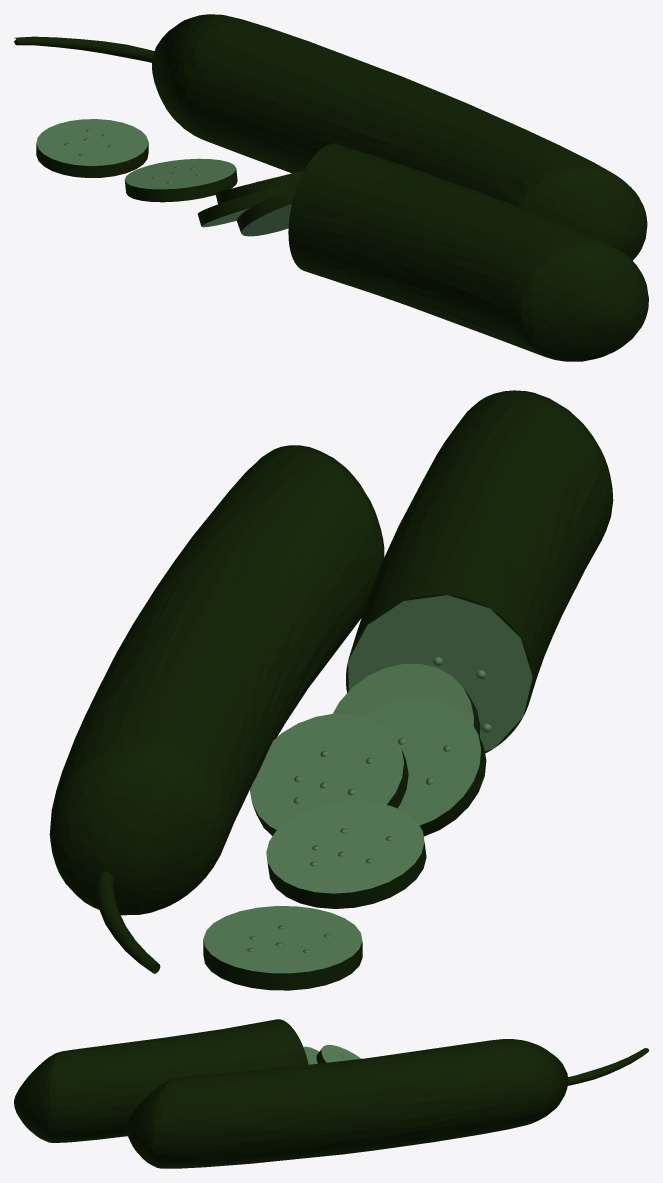
File: Cucumber.obj
3 views of the same model, one above another, from view 1: azimuth 30°, elevation 25°; view 2: azimuth 150°, elevation 25°; view 3: azimuth 270°, elevation 25° (orthographic). The views are drawn at different scales.
Visible parts, largest first — view 1: Cylinder008, Cylinder013, Cylinder010, Cylinder009, Cylinder014, Line003, Cylinder011, Cylinder012; view 2: Cylinder008, Cylinder013, Cylinder009, Cylinder012, Cylinder010, Cylinder011, Cylinder014, Line003; view 3: Cylinder008, Cylinder013, Line003, Cylinder011.
Part boxes in pixels (bbox=[...]): Cylinder008: bbox=[152, 14, 647, 260]; Cylinder013: bbox=[288, 143, 648, 361]; Cylinder010: bbox=[36, 119, 148, 177]; Cylinder009: bbox=[124, 158, 237, 202]; Cylinder014: bbox=[237, 189, 295, 236]; Line003: bbox=[14, 36, 154, 62]; Cylinder011: bbox=[197, 182, 298, 227]; Cylinder012: bbox=[215, 170, 303, 204]; Cylinder008: bbox=[49, 445, 384, 915]; Cylinder013: bbox=[346, 390, 613, 753]; Cylinder009: bbox=[266, 801, 426, 908]; Cylinder012: bbox=[250, 713, 408, 835]; Cylinder010: bbox=[203, 906, 362, 990]; Cylinder011: bbox=[365, 698, 486, 836]; Cylinder014: bbox=[333, 664, 480, 737]; Line003: bbox=[96, 871, 160, 973]; Cylinder008: bbox=[126, 1039, 568, 1168]; Cylinder013: bbox=[14, 1019, 308, 1142]; Line003: bbox=[567, 1048, 648, 1085]; Cylinder011: bbox=[316, 1045, 361, 1063].
Size of the model in its own units: 3744 by 1267 by 8611.
